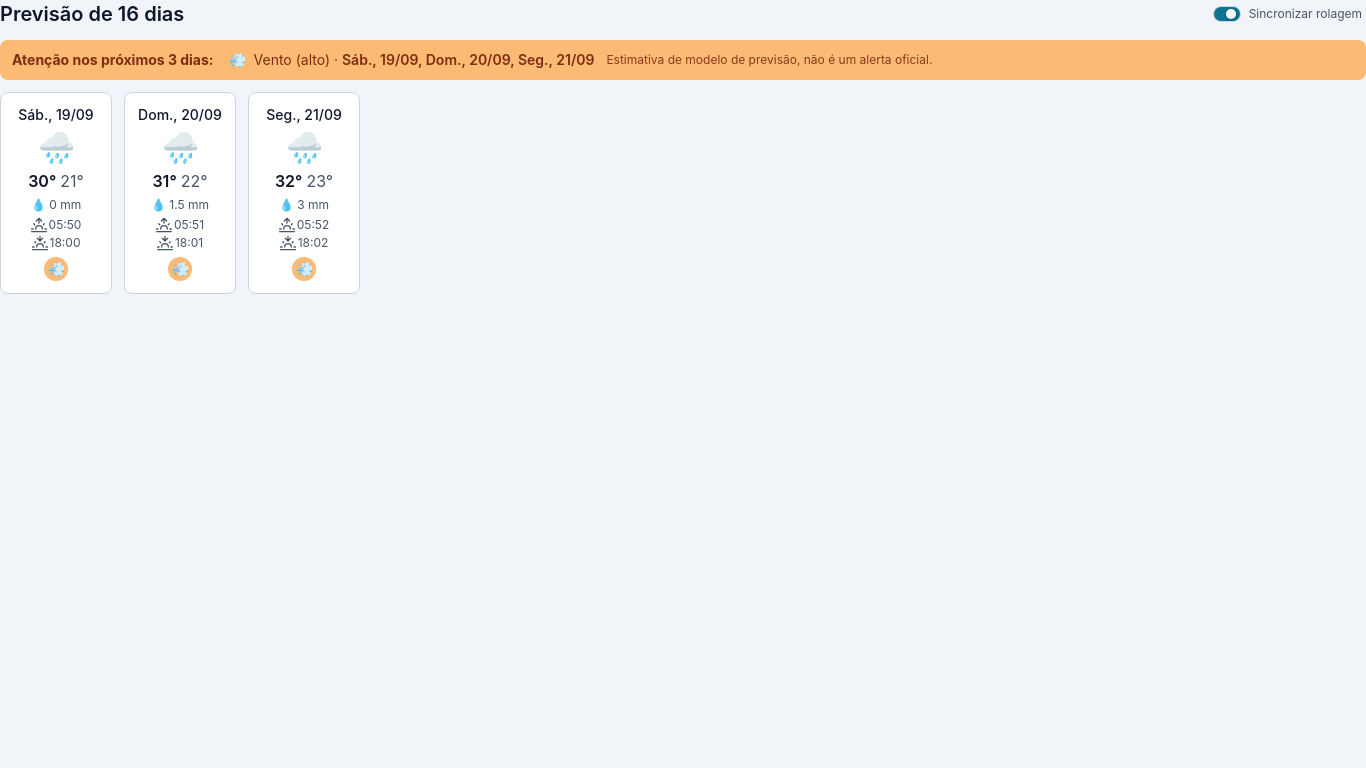
ForecastCards › day detail modal › closing resets it, and reopening another card shows that card
Click the button with test id "day-card". click: (56, 193)
box: [0,92,112,294]
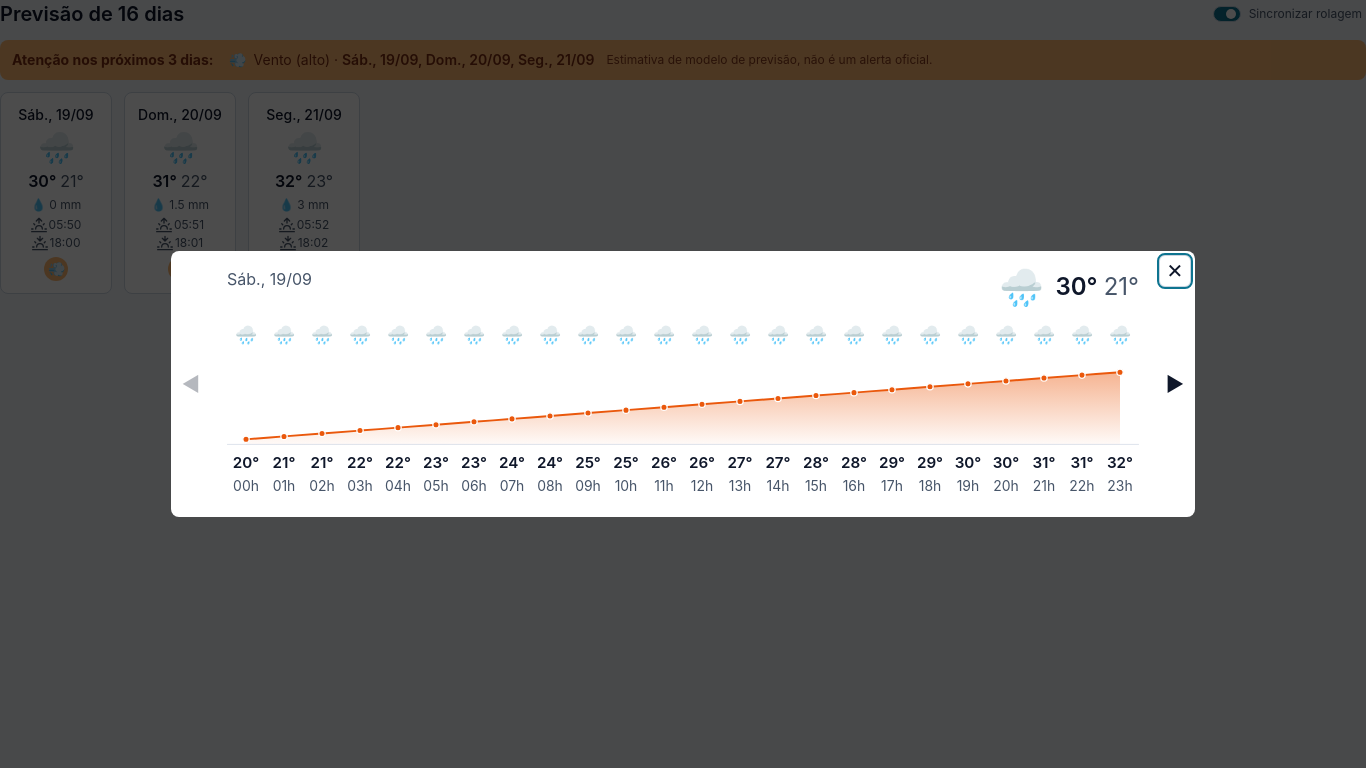
Click the button with test id "day-close". click: (1175, 271)
box: [1159,255,1191,287]
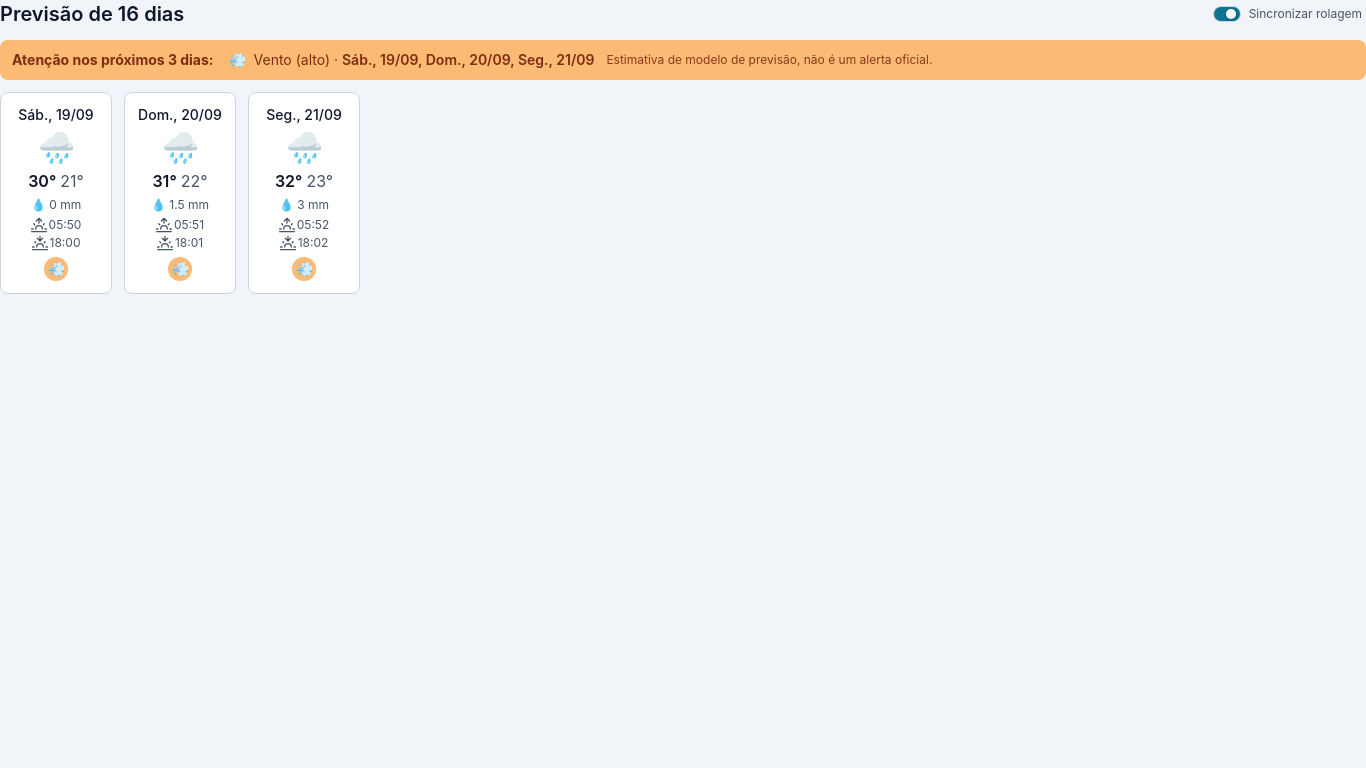
Click the button with test id "day-card". click: (180, 193)
box: [124,92,236,294]
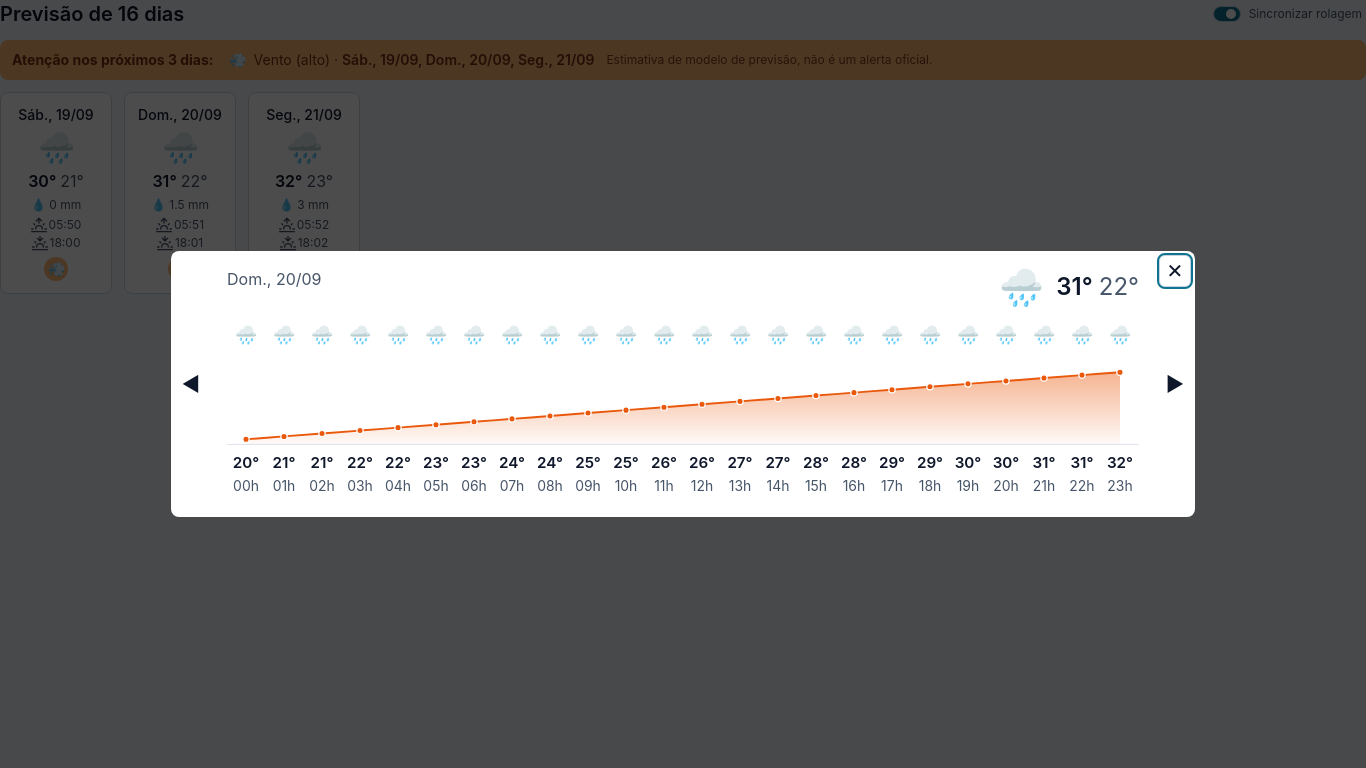
Result: the text with test id "day-date" shows "20/09" at [227,269,322,289]
